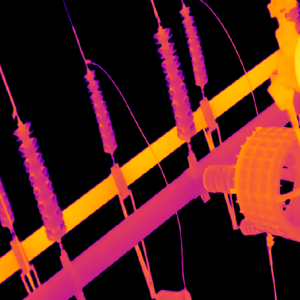insulator: (13, 120, 67, 241), (152, 25, 197, 139), (83, 67, 117, 153), (176, 4, 209, 86)
